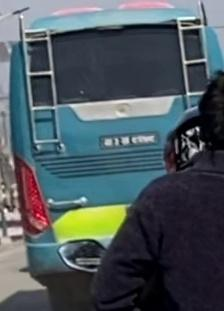license-plate: (102, 128, 161, 158)
